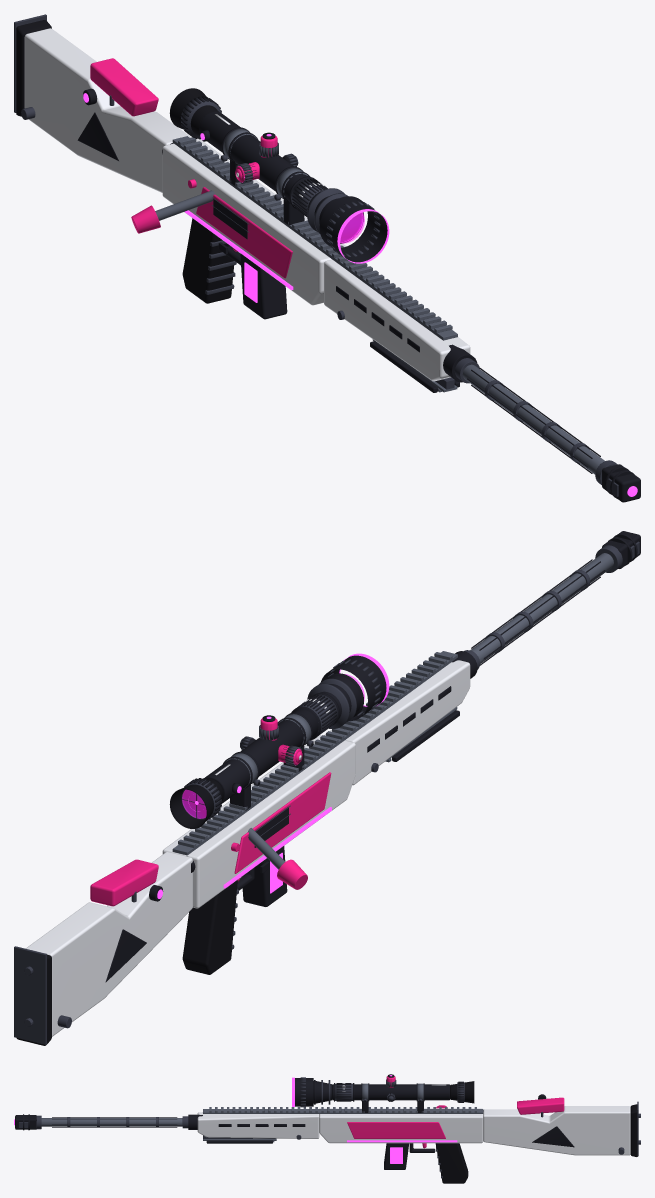
The model's file is GravitySniper.fbx.
3 renders of one model, top to bottom at view 1: azimuth 30°, elevation 25°; view 2: azimuth 150°, elevation 25°; view 3: azimuth 270°, elevation 25°, orthographic. The views are drawn at different scales.
Visible parts, largest first — view 1: GravitySniper_Part_Cuerpo, GravitySniper_Part_Culata_Base, GravitySniper_Detalle_Cuerpo, GravitySniper_Detalle_Mira, GravitySniper_Part_Mira_Integrada, GravitySniper_Part_Cargador_Base, GravitySniper_Part_Boca_Base, GravitySniper_Detalle_Culata; view 2: GravitySniper_Part_Cuerpo, GravitySniper_Part_Culata_Base, GravitySniper_Detalle_Cuerpo, GravitySniper_Detalle_Mira, GravitySniper_Part_Mira_Integrada, GravitySniper_Detalle_Culata, GravitySniper_Part_Cargador_Base; view 3: GravitySniper_Part_Cuerpo, GravitySniper_Part_Culata_Base, GravitySniper_Detalle_Cuerpo, GravitySniper_Detalle_Mira, GravitySniper_Part_Mira_Integrada, GravitySniper_Part_Cargador_Base, GravitySniper_Part_Boca_Base, GravitySniper_Detalle_Culata.
Boxes of the visible parts, box(x1,y1,x2,y2) form: GravitySniper_Part_Cuerpo: box(162, 138, 604, 474); GravitySniper_Part_Culata_Base: box(16, 20, 191, 192); GravitySniper_Detalle_Cuerpo: box(131, 136, 600, 473); GravitySniper_Detalle_Mira: box(169, 88, 389, 263); GravitySniper_Part_Mira_Integrada: box(190, 105, 362, 241); GravitySniper_Part_Cargador_Base: box(240, 253, 287, 319); GravitySniper_Part_Boca_Base: box(602, 464, 640, 502); GravitySniper_Detalle_Culata: box(14, 14, 114, 119); GravitySniper_Part_Cuerpo: box(162, 553, 613, 974); GravitySniper_Part_Culata_Base: box(16, 852, 192, 1045); GravitySniper_Detalle_Cuerpo: box(172, 559, 605, 889); GravitySniper_Detalle_Mira: box(169, 653, 389, 828); GravitySniper_Part_Mira_Integrada: box(183, 676, 360, 817); GravitySniper_Detalle_Culata: box(14, 885, 163, 1044); GravitySniper_Part_Cargador_Base: box(242, 846, 287, 906); GravitySniper_Part_Cuerpo: box(41, 1108, 483, 1183); GravitySniper_Part_Culata_Base: box(483, 1097, 637, 1156); GravitySniper_Detalle_Cuerpo: box(52, 1105, 483, 1142); GravitySniper_Detalle_Mira: box(292, 1074, 474, 1107); GravitySniper_Part_Mira_Integrada: box(313, 1076, 457, 1112); GravitySniper_Part_Cargador_Base: box(384, 1143, 409, 1169); GravitySniper_Part_Boca_Base: box(14, 1115, 36, 1129); GravitySniper_Detalle_Culata: box(538, 1094, 640, 1156).
Size of the model in its own units: 14.2 by 24.46 by 132.
